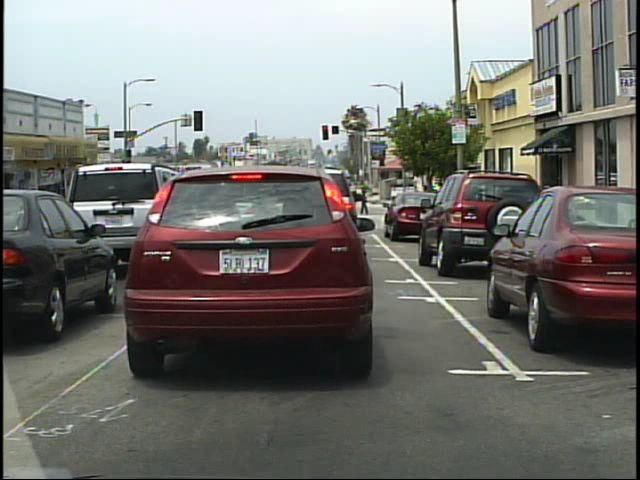person: (358, 185, 371, 218)
